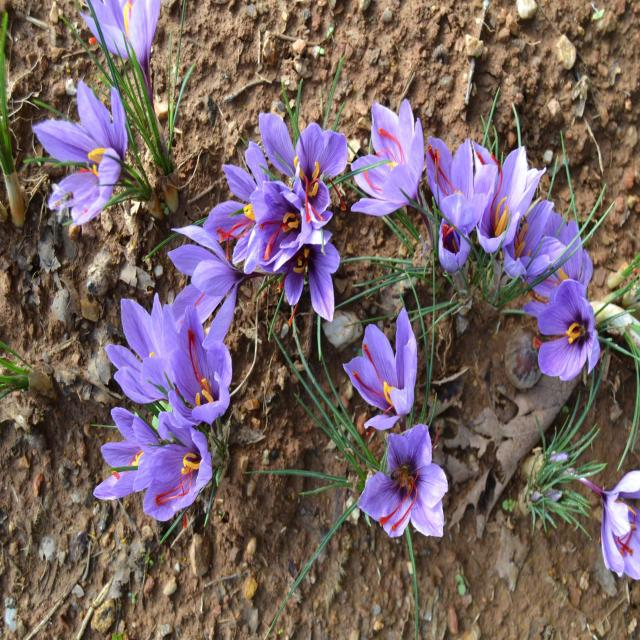saffron open: (34, 81, 128, 225), (358, 424, 448, 538), (259, 114, 346, 229), (169, 225, 245, 343), (344, 309, 418, 429), (351, 99, 424, 216), (105, 294, 178, 403), (204, 142, 268, 264), (168, 306, 232, 427), (142, 414, 212, 521), (91, 0, 161, 103), (476, 146, 542, 253), (579, 471, 640, 579), (94, 407, 159, 501), (539, 281, 600, 381), (245, 180, 310, 272), (502, 201, 565, 281), (535, 212, 592, 298), (278, 242, 340, 321), (439, 219, 470, 274), (472, 142, 495, 165), (80, 11, 98, 37)
